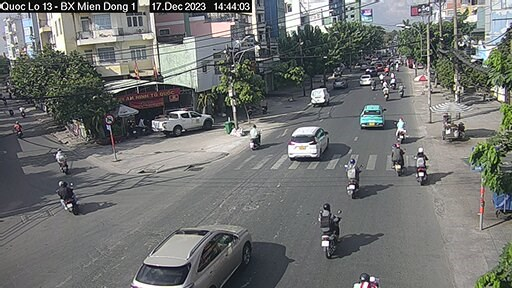car: (130, 217, 240, 288), (153, 108, 216, 134), (288, 123, 325, 158), (302, 87, 336, 109), (363, 102, 391, 127)
motorbike: (315, 203, 342, 253), (341, 160, 363, 193), (393, 143, 408, 181), (410, 151, 427, 180), (249, 126, 260, 150)
